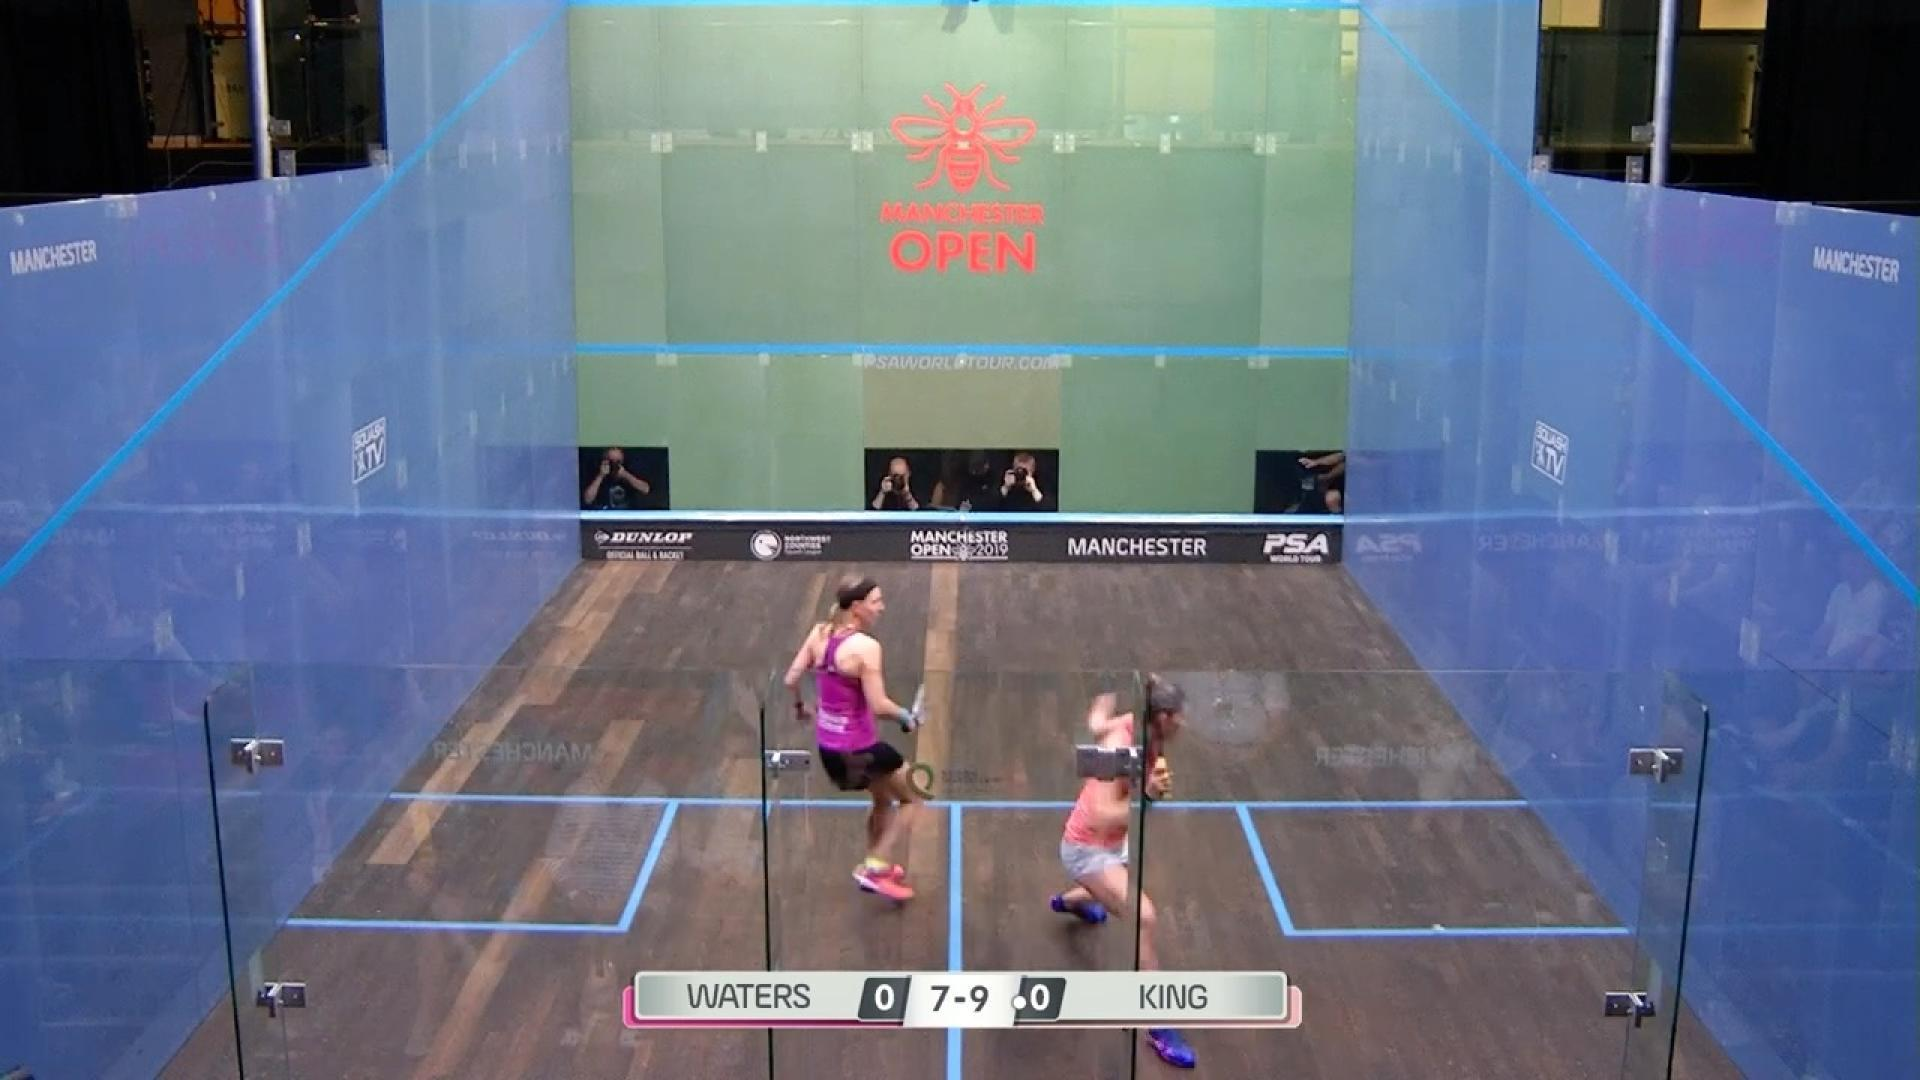Squash-Ball: (1415, 902, 1452, 957)
